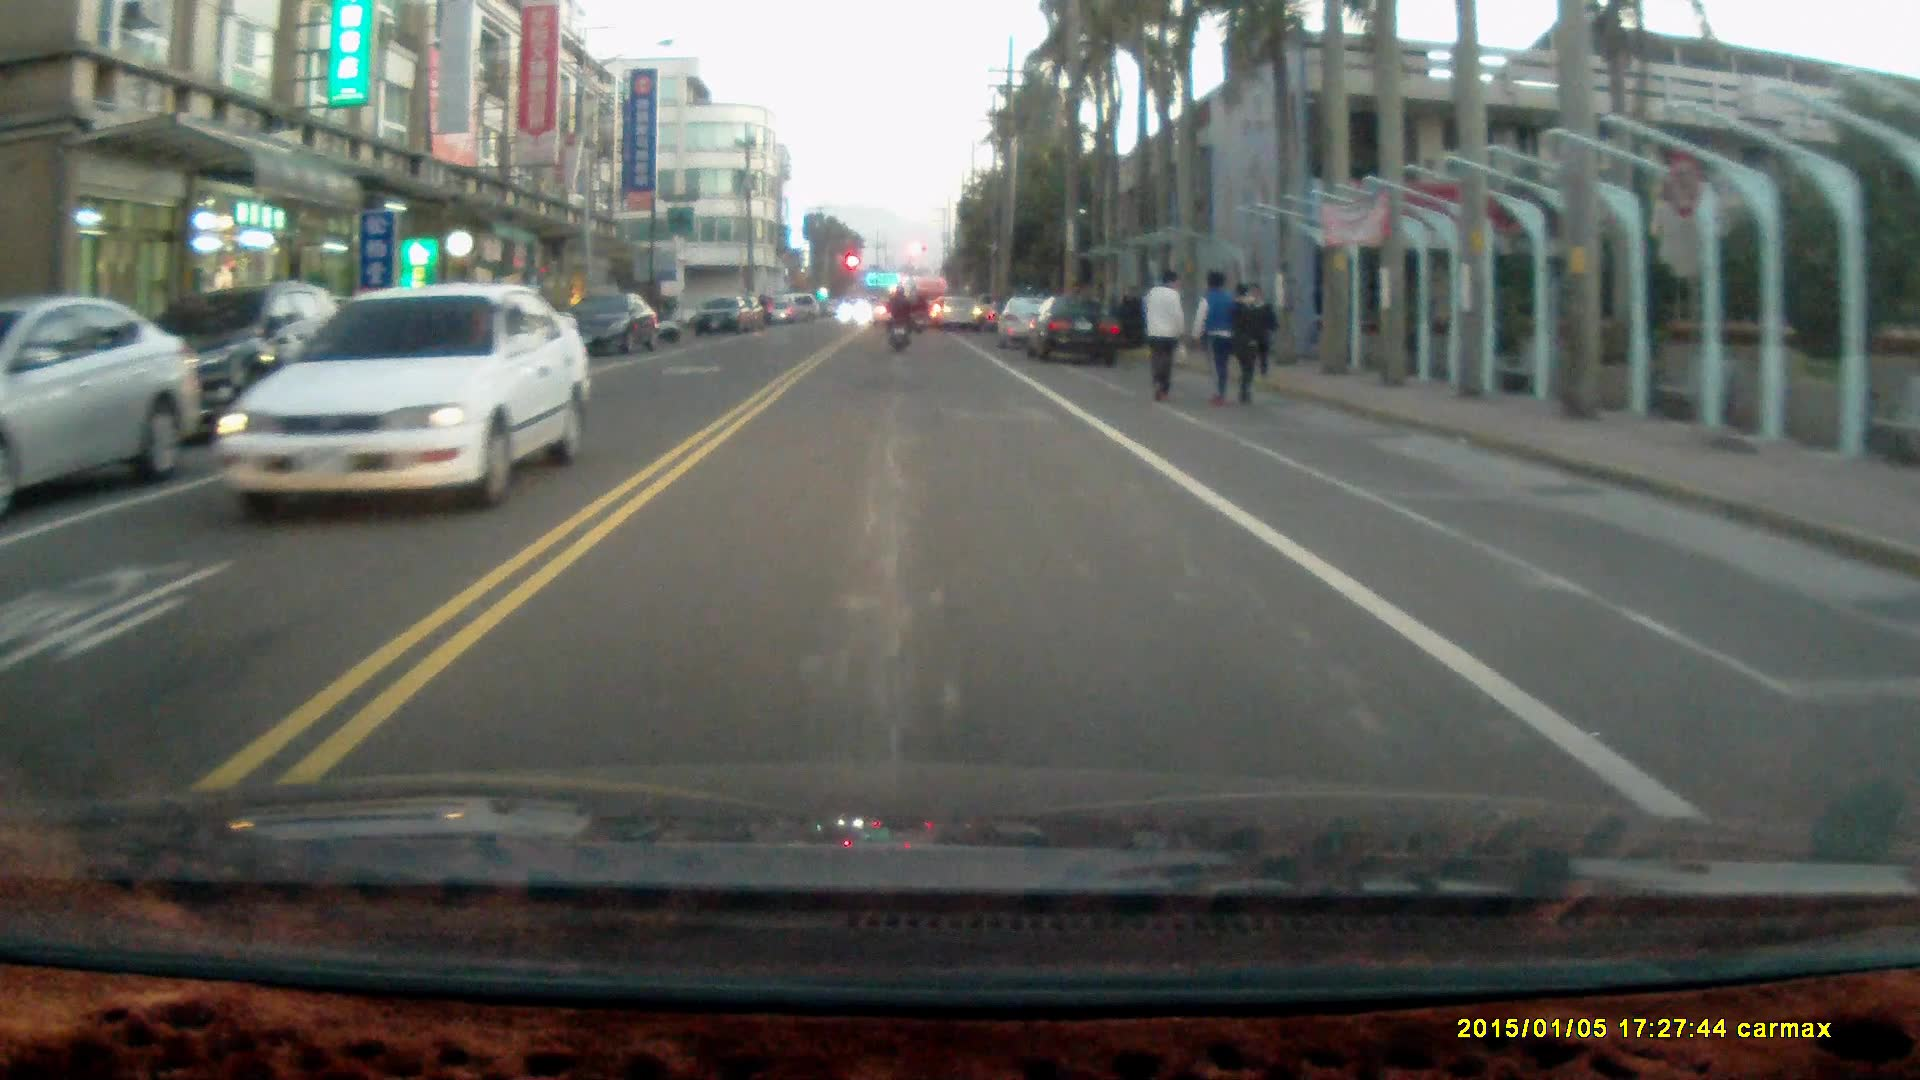pedestrian: (1141, 263, 1187, 405), (1190, 266, 1237, 405), (1225, 280, 1266, 409)
rider: (883, 282, 914, 354)
vehicle: (213, 285, 592, 510), (3, 293, 191, 505), (100, 278, 338, 431), (560, 289, 655, 358), (1033, 297, 1124, 367), (997, 295, 1085, 355), (694, 297, 758, 339)
